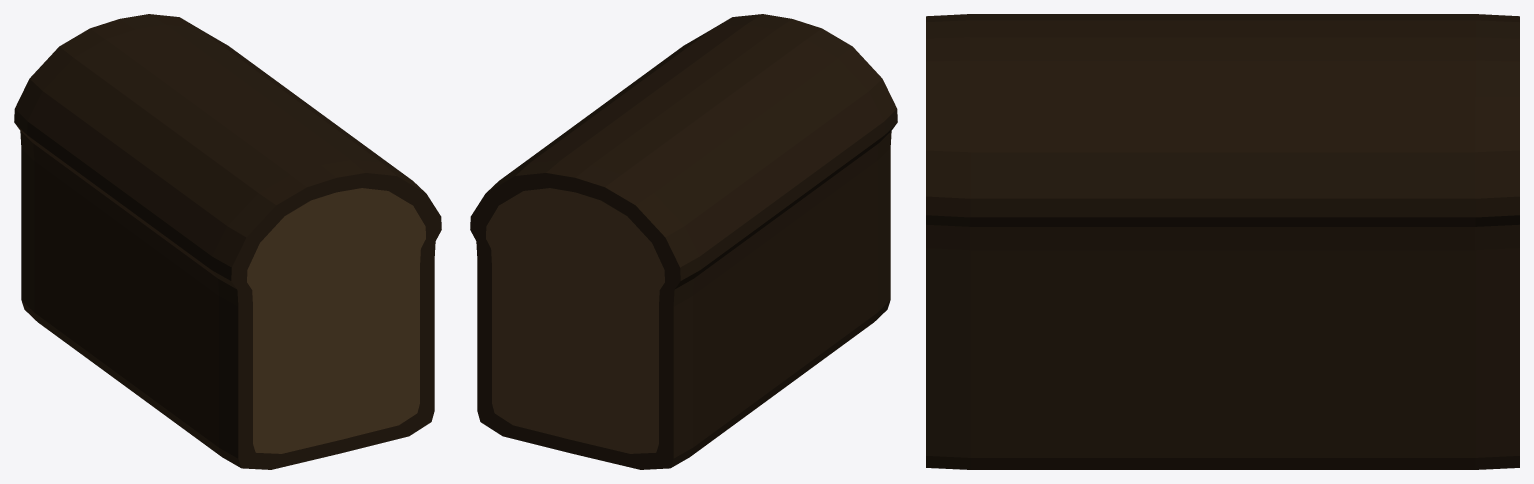
The model's file is Bread.obj.
3 renders of one model, left to right at view 1: azimuth 30°, elevation 25°; view 2: azimuth 150°, elevation 25°; view 3: azimuth 270°, elevation 25°, orthographic. The views are drawn at different scales.
Visible parts, largest first — view 1: Bread_Cube.032; view 2: Bread_Cube.032; view 3: Bread_Cube.032.
Part boxes in pixels (box(x1,y1,x2,y2)): Bread_Cube.032: box(14, 14, 441, 469); Bread_Cube.032: box(470, 14, 897, 469); Bread_Cube.032: box(926, 14, 1519, 469).
Bounding box in the file's own units: 0.6933 × 0.847 × 1.2.
